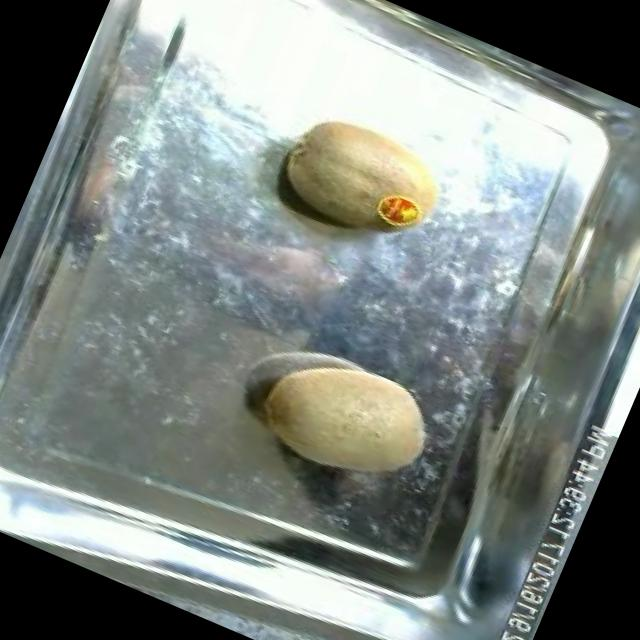Fruit: (232, 326, 454, 518), (260, 89, 465, 268)
